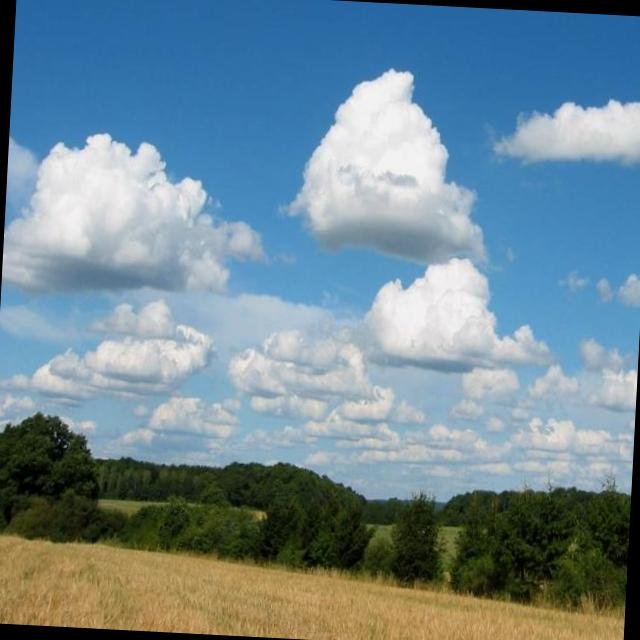cumulus: (2, 128, 232, 298), (294, 65, 460, 258), (354, 265, 502, 372), (508, 87, 640, 177)
